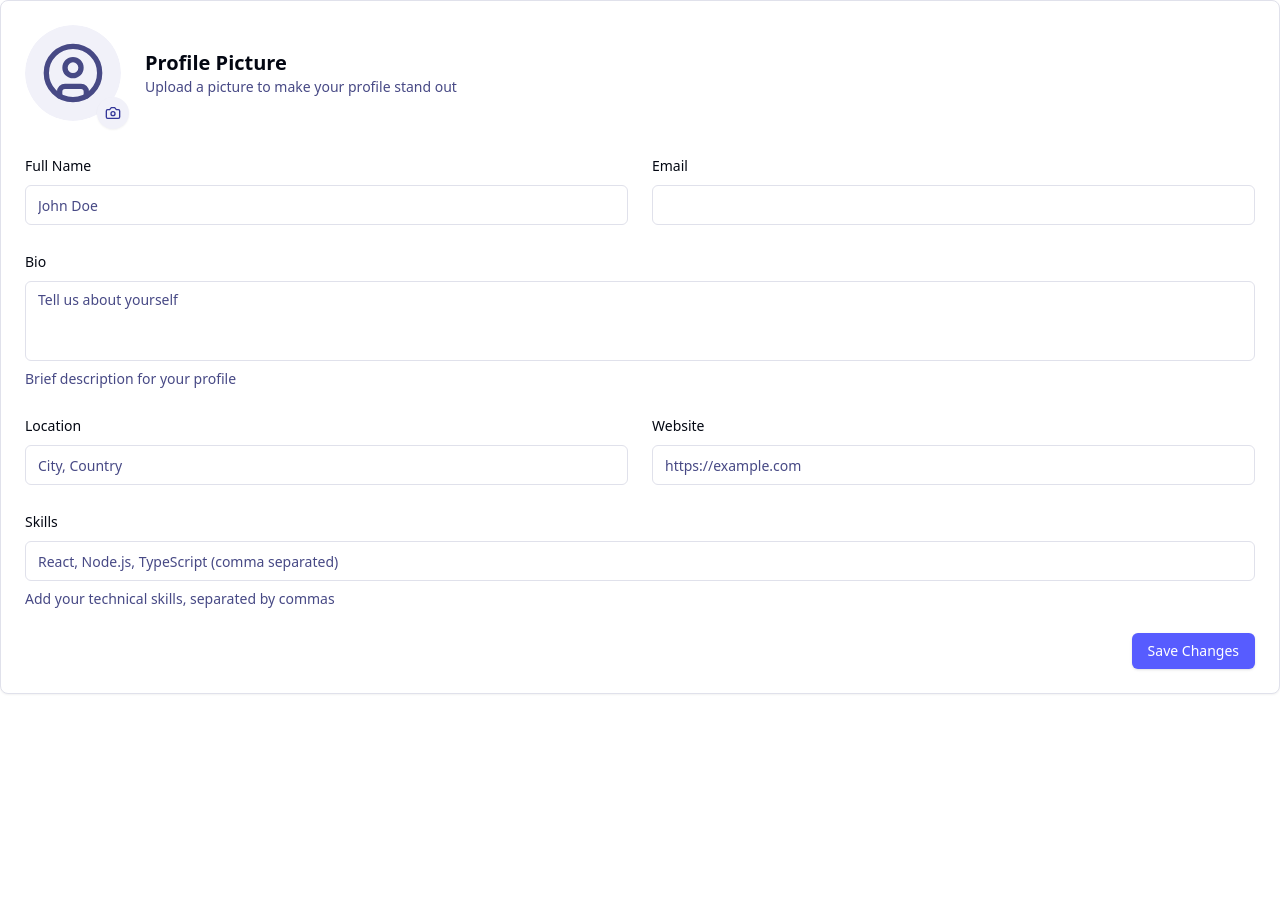
Test: ProfileForm › validates required fields on submit
This screenshot has width=1280, height=900.
Click the button "Save Changes" at point(1193, 651), box [1132,633,1255,669]
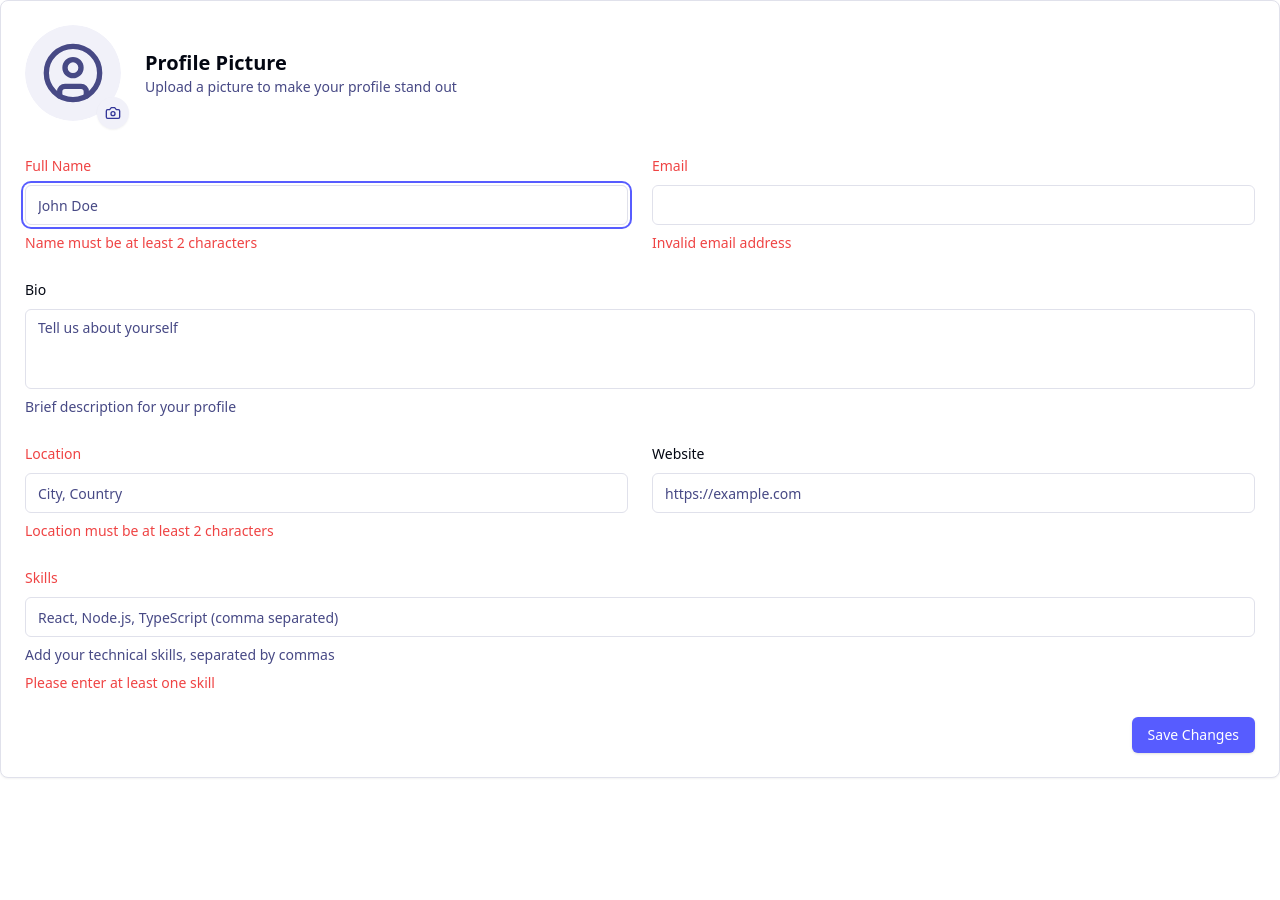
Result: the text "Name must be at least 2 characters" is shown at [25,233,257,252]
Result: the text "Invalid email address" is shown at [652,233,791,252]
